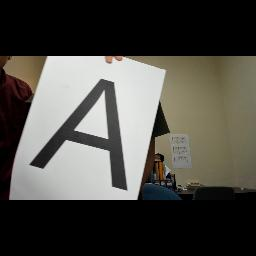a: (24, 70, 136, 196)
